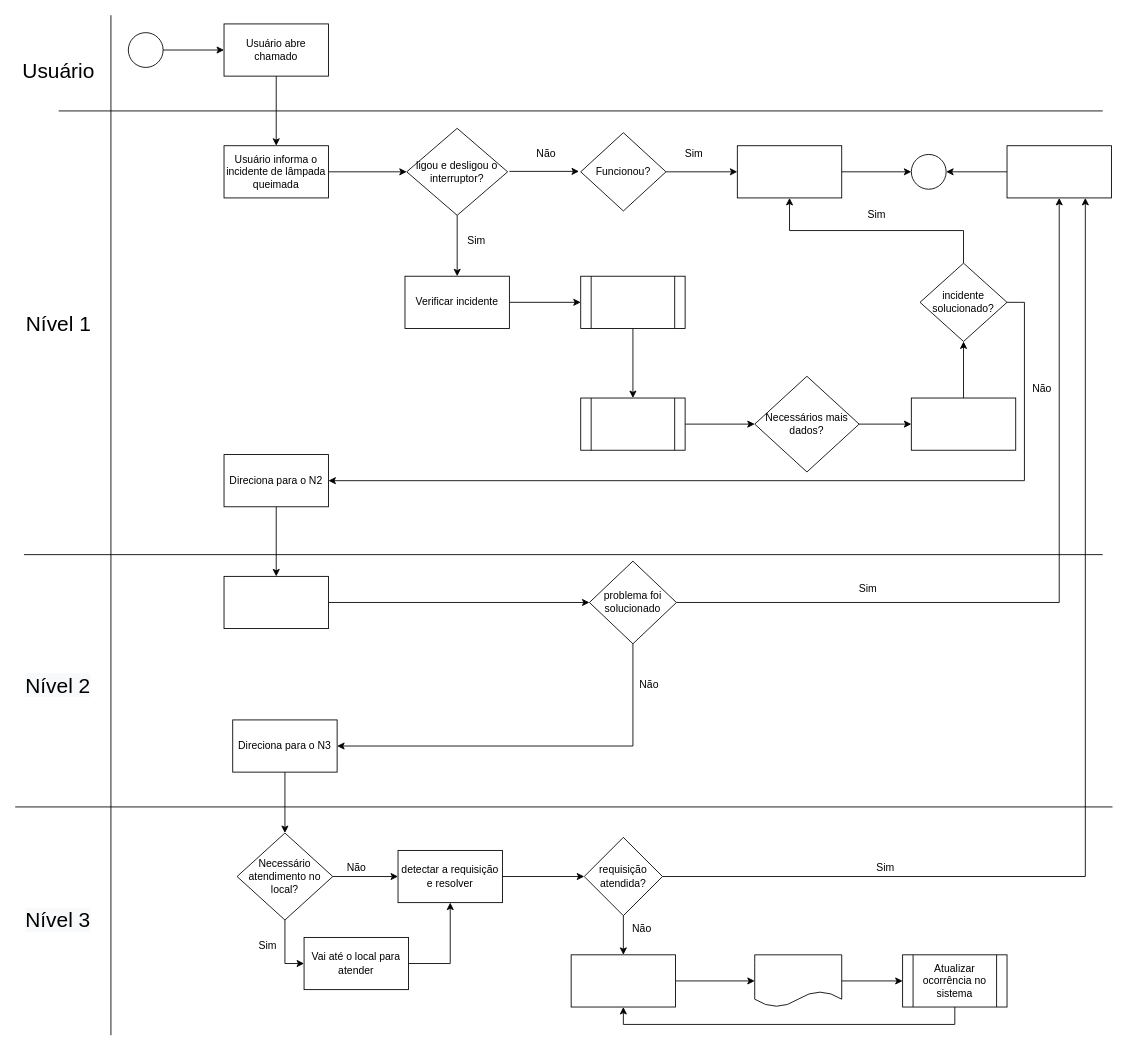
The diagram is 1129 pixels wide and 1052 high, and some of its shapes have lost their labels. Each missing label, with the box of its shape:
Analisar ocorrência: (570, 954, 676, 1007)
Classificar priorização: (580, 397, 685, 450)
Detectar e resolver o incidente: (910, 397, 1016, 450)
Detectar problema e resolver: (223, 576, 328, 629)
Encerra o chamado: (736, 145, 842, 198)
Encerrar o chamado: (1006, 145, 1111, 198)
Registrar no sistema: (580, 275, 685, 328)
Relatório da ocorrência: (754, 954, 842, 1007)
